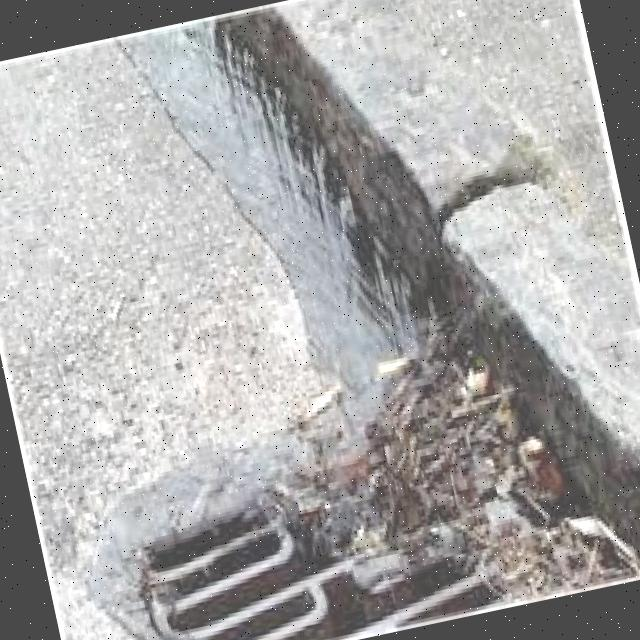curb: (180, 1, 511, 252), (416, 186, 640, 537)
